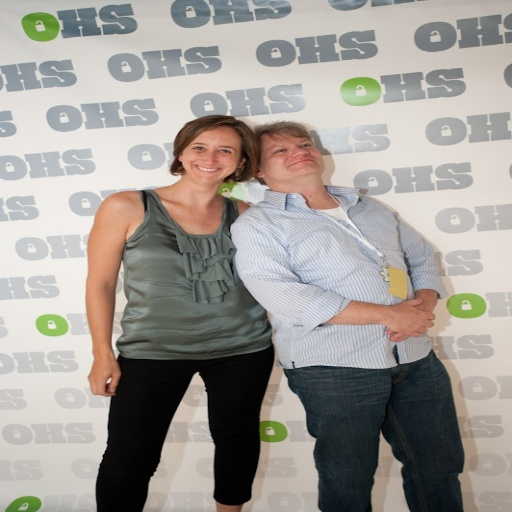hand: (368, 297, 435, 342), (86, 354, 117, 400)
